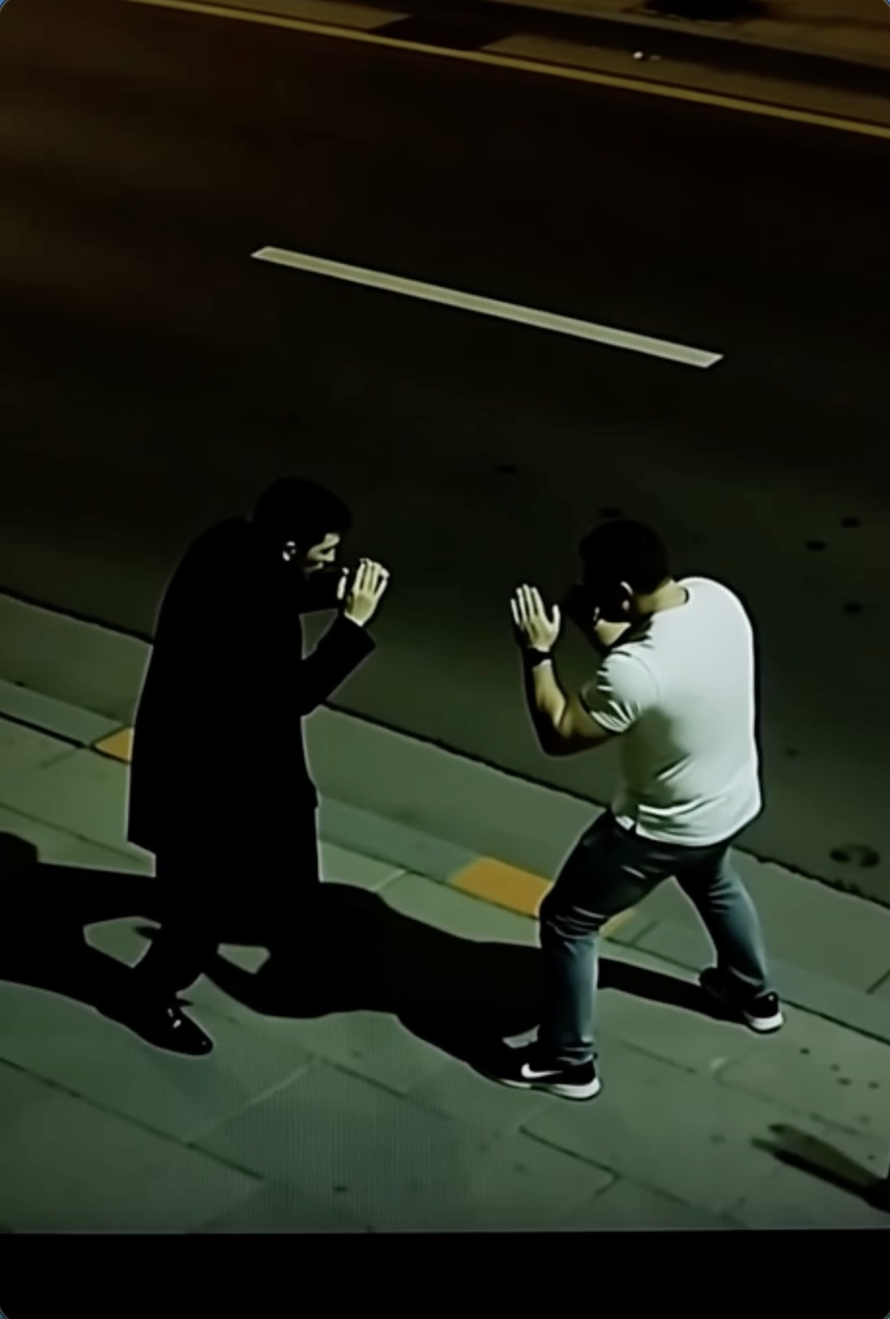Assault: (110, 477, 393, 1058)
Fighting: (497, 514, 786, 1099)
